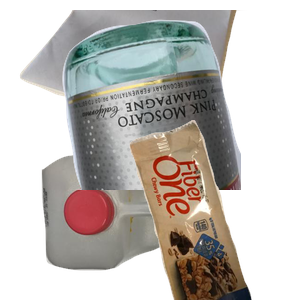glass: (60, 17, 300, 197)
paper: (17, 10, 254, 141)
plastic: (39, 149, 203, 300)
trash: (127, 120, 300, 300)
